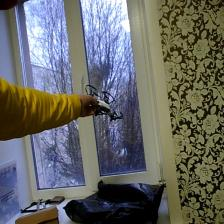drone: (81, 81, 126, 126)
